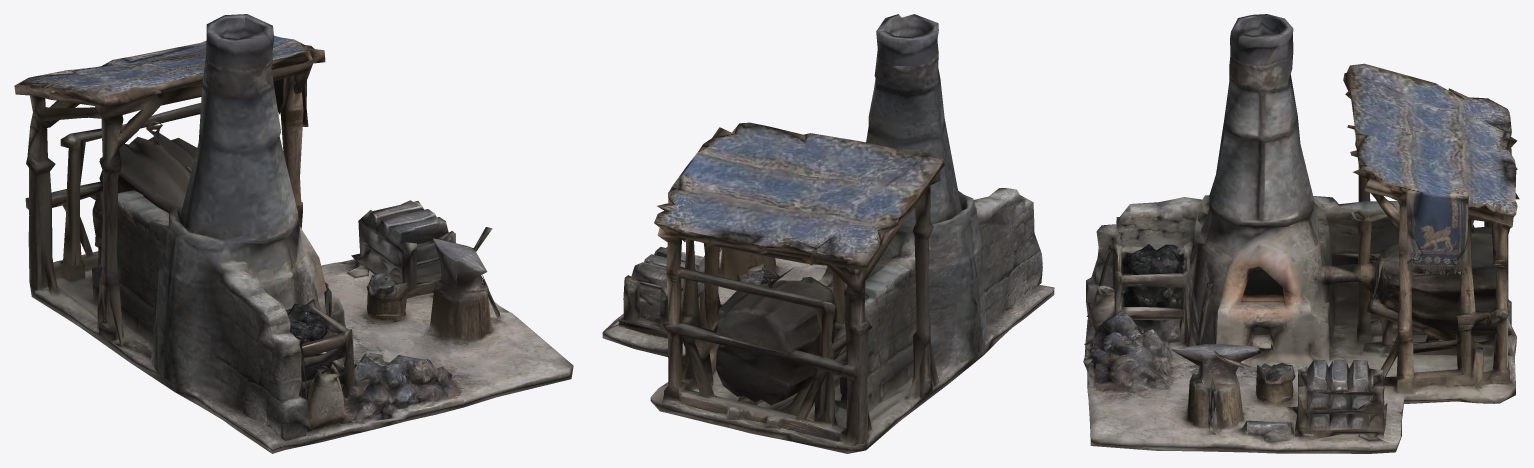
File: iron_mine_1.glb
3 renders of one model, left to right at view 1: azimuth 30°, elevation 25°; view 2: azimuth 150°, elevation 25°; view 3: azimuth 270°, elevation 25°, orthographic. The views are drawn at different scales.
Visible parts, largest first — view 1: tripo_node_24432b93-2e9c-4eda-aaee-7174059427c1; view 2: tripo_node_24432b93-2e9c-4eda-aaee-7174059427c1; view 3: tripo_node_24432b93-2e9c-4eda-aaee-7174059427c1.
Part boxes in pixels (<box>): tripo_node_24432b93-2e9c-4eda-aaee-7174059427c1: <box>14,14,573,453</box>; tripo_node_24432b93-2e9c-4eda-aaee-7174059427c1: <box>602,14,1054,453</box>; tripo_node_24432b93-2e9c-4eda-aaee-7174059427c1: <box>1083,14,1519,453</box>.
Bounding box in the file's own units: 0.8275 × 0.7734 × 0.9773.
1 material, 1 textured.
